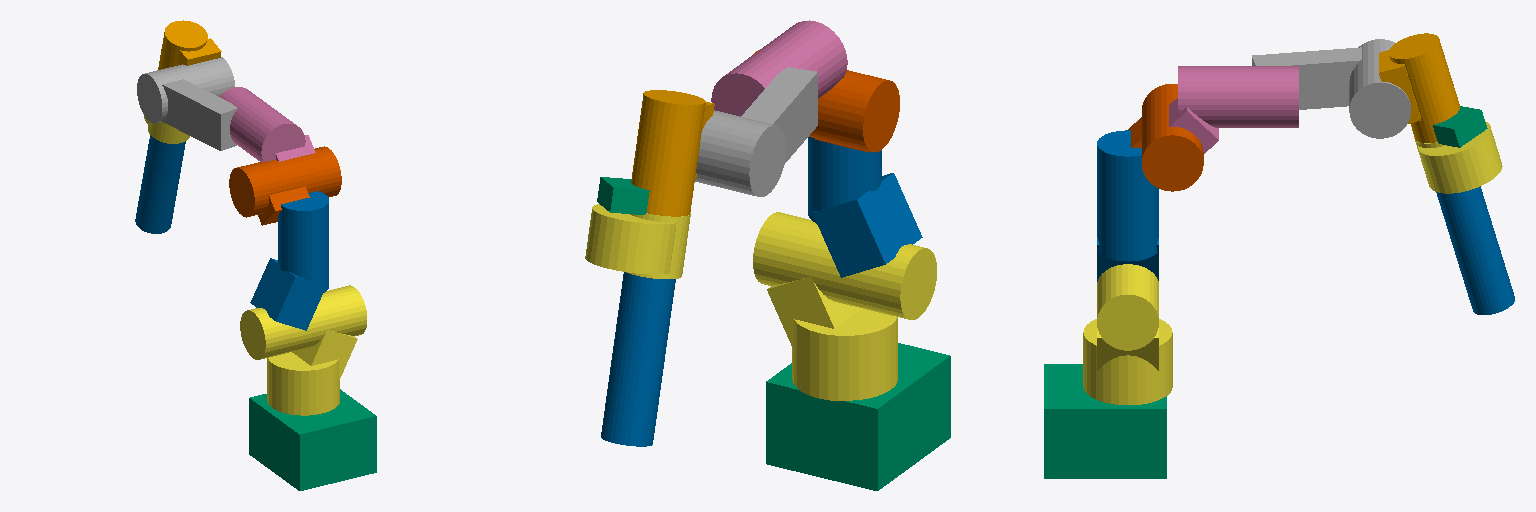
URDF robot description (franka):
<?xml version="1.0" encoding="utf-8"?>
<!-- =================================================================================== -->
<!-- |    This document was autogenerated by xacro from config/franka_only_collision_checking.urdf.xacro | -->
<!-- |    EDITING THIS FILE BY HAND IS NOT RECOMMENDED                                 | -->
<!-- =================================================================================== -->
<robot name="franka">
  <link name="base_link"/>
  <link name="base_aa"/>
  <joint name="base_aa_joint" type="fixed">
    <parent link="base_link"/>
    <child link="base_aa"/>
    <origin rpy="0 0 0" xyz="0.01905 -0.04134 0.0"/>
  </joint>
  <joint name="franka_joint_base_aa" type="fixed">
    <parent link="base_aa"/>
    <child link="franka_link0"/>
    <origin rpy="0 0 1.5708" xyz="0 0 0"/>
  </joint>
  <link name="franka_link0">
    <!-- <visual>
        <geometry>
          <mesh filename="meshes/collision/link0.obj"/>
        </geometry>
      </visual> -->
    <visual>
      <origin rpy="0 0 0" xyz="-0.041 0 0.0705"/>
      <geometry>
        <box size="0.227 0.2 0.141"/>
      </geometry>
    </visual>
  </link>
  <link name="franka_link1">
    <!-- <collision>
        <geometry>
          <mesh filename="meshes/collision/link1.obj"/>
        </geometry>
      </collision> -->
    <!-- <visual>
        <geometry>
          <mesh filename="meshes/collision/link1.obj"/>
        </geometry>
      </visual> -->
    <collision>
      <origin rpy="0 0 0" xyz="0 0 -0.137"/>
      <geometry>
        <!-- <cylinder length="0.112" radius="0.0575" /> -->
        <!-- no clamp on robot -->
        <cylinder length="0.112" radius="0.0825"/>
        <!-- clamp on robot -->
      </geometry>
    </collision>
    <visual>
      <origin rpy="0 0 0" xyz="0 0 -0.137"/>
      <geometry>
        <!-- <cylinder length="0.112" radius="0.0575" /> -->
        <!-- no clamp on robot -->
        <cylinder length="0.112" radius="0.0825"/>
        <!-- clamp on robot -->
      </geometry>
    </visual>
    <collision>
      <origin rpy="0.4799655 0 0" xyz="0 -0.0416 -0.0707"/>
      <geometry>
        <box size="0.115 0.09 0.112"/>
      </geometry>
    </collision>
    <visual>
      <origin rpy="0.4799655 0 0" xyz="0 -0.0416 -0.0707"/>
      <geometry>
        <box size="0.115 0.09 0.112"/>
      </geometry>
    </visual>
    <collision>
      <origin rpy="1.5708 0 0" xyz="0 0 0"/>
      <geometry>
        <cylinder length="0.264" radius="0.0575"/>
      </geometry>
    </collision>
    <visual>
      <origin rpy="1.5708 0 0" xyz="0 0 0"/>
      <geometry>
        <cylinder length="0.264" radius="0.0575"/>
      </geometry>
    </visual>
  </link>
  <joint name="franka_joint1" type="revolute">
    <safety_controller k_position="100.0" k_velocity="40.0" soft_lower_limit="-2.8973" soft_upper_limit="0.6"/>
    <origin rpy="0 0 0" xyz="0 0 0.333"/>
    <parent link="franka_link0"/>
    <child link="franka_link1"/>
    <axis xyz="0 0 1"/>
    <limit effort="87" lower="-2.8773" upper="2.8773" velocity="2.1750"/>
  </joint>
  <link name="franka_link2">
    <!-- <collision>
        <geometry>
          <cylinder radius="0.09" length="0.25"/>
           <mesh filename="meshes/collision/link2.obj"/> 
        </geometry>
      </collision> -->
    <!-- <visual>
        <geometry>
          <cylinder radius="0.09" length="0.25"/>
           <mesh filename="meshes/collision/link2.obj"/> 
        </geometry>
      </visual> -->
    <collision>
      <origin rpy="-1.090831 0 0" xyz="0 -0.0795 0.0401"/>
      <geometry>
        <box size="0.115 0.09 0.112"/>
      </geometry>
    </collision>
    <visual>
      <origin rpy="-1.090831 0 0" xyz="0 -0.0795 0.0401"/>
      <geometry>
        <box size="0.115 0.09 0.112"/>
      </geometry>
    </visual>
    <collision>
      <origin rpy="1.5708 0 0" xyz="0 -0.197 0"/>
      <geometry>
        <cylinder length="0.214" radius="0.0575"/>
      </geometry>
    </collision>
    <visual>
      <origin rpy="1.5708 0 0" xyz="0 -0.197 0"/>
      <geometry>
        <cylinder length="0.214" radius="0.0575"/>
      </geometry>
    </visual>
  </link>
  <joint name="franka_joint2" type="revolute">
    <safety_controller k_position="100.0" k_velocity="40.0" soft_lower_limit="-1.7628" soft_upper_limit="0.6"/>
    <origin rpy="-1.57079632679 0 0" xyz="0 0 0"/>
    <parent link="franka_link1"/>
    <child link="franka_link2"/>
    <axis xyz="0 0 1"/>
    <limit effort="87" lower="-1.7428" upper="1.7428" velocity="2.1750"/>
  </joint>
  <link name="franka_link3">
    <!-- <collision>
        <geometry>
          <mesh filename="meshes/collision/link3.obj"/>
        </geometry>
      </collision> -->
    <!-- <visual>
        <geometry>
          <mesh filename="meshes/collision/link3.obj"/>
        </geometry>
      </visual> -->
    <collision>
      <origin rpy="0 0.785 0" xyz="0.045 0.028 -0.0333"/>
      <geometry>
        <box size="0.085 0.095 0.05"/>
      </geometry>
    </collision>
    <visual>
      <origin rpy="0 0.785 0" xyz="0.045 0.028 -0.0333"/>
      <geometry>
        <box size="0.085 0.095 0.05"/>
      </geometry>
    </visual>
    <collision>
      <origin rpy="1.5708 0 0" xyz="0.0825 0 0"/>
      <geometry>
        <cylinder length="0.226" radius="0.0575"/>
      </geometry>
    </collision>
    <visual>
      <origin rpy="1.5708 0 0" xyz="0.0825 0 0"/>
      <geometry>
        <cylinder length="0.226" radius="0.0575"/>
      </geometry>
    </visual>
  </link>
  <joint name="franka_joint3" type="revolute">
    <safety_controller k_position="100.0" k_velocity="40.0" soft_lower_limit="-2.8973" soft_upper_limit="2.8973"/>
    <origin rpy="1.57079632679 0 0" xyz="0 -0.316 0"/>
    <parent link="franka_link2"/>
    <child link="franka_link3"/>
    <axis xyz="0 0 1"/>
    <limit effort="87" lower="-2.8773" upper="2.8773" velocity="2.1750"/>
  </joint>
  <link name="franka_link4">
    <!-- <collision>
        <geometry>
          <mesh filename="meshes/collision/link4.obj"/>
        </geometry>
      </collision> -->
    <!-- <visual>
        <geometry>
          <mesh filename="meshes/collision/link4.obj"/>
        </geometry>
      </visual> -->
    <collision>
      <origin rpy="0 0 0.785" xyz="-0.0417 0.0388 0.0275"/>
      <geometry>
        <box size="0.085 0.05 0.095"/>
      </geometry>
    </collision>
    <visual>
      <origin rpy="0 0 0.785" xyz="-0.0417 0.0388 0.0275"/>
      <geometry>
        <box size="0.085 0.05 0.095"/>
      </geometry>
    </visual>
    <collision>
      <origin rpy="1.5708 0 0" xyz="-0.0825 0.121 0"/>
      <geometry>
        <cylinder length="0.224" radius="0.0575"/>
      </geometry>
    </collision>
    <visual>
      <origin rpy="1.5708 0 0" xyz="-0.0825 0.121 0"/>
      <geometry>
        <cylinder length="0.224" radius="0.0575"/>
      </geometry>
    </visual>
  </link>
  <joint name="franka_joint4" type="revolute">
    <safety_controller k_position="100.0" k_velocity="40.0" soft_lower_limit="-3.0718" soft_upper_limit="-0.0698"/>
    <origin rpy="1.57079632679 0 0" xyz="0.0825 0 0"/>
    <parent link="franka_link3"/>
    <child link="franka_link4"/>
    <axis xyz="0 0 1"/>
    <limit effort="87" lower="-3.0518" upper="-0.0898" velocity="2.1750"/>
  </joint>
  <link name="franka_link5">
    <!-- <collision>
        <geometry>
          <mesh filename="meshes/collision/link5.obj"/>
        </geometry>
      </collision> -->
    <!-- <visual>
        <geometry>
          <mesh filename="meshes/collision/link5.obj"/>
        </geometry>
      </visual> -->
    <collision>
      <origin rpy="-0.174533 0 0" xyz="0 0.075 -0.125"/>
      <geometry>
        <box size="0.092 0.056 0.22"/>
      </geometry>
    </collision>
    <visual>
      <origin rpy="-0.174533 0 0" xyz="0 0.075 -0.125"/>
      <geometry>
        <box size="0.092 0.056 0.22"/>
      </geometry>
    </visual>
    <collision>
      <origin rpy="1.5708 0 0" xyz="0 0.036 0"/>
      <geometry>
        <cylinder length="0.19" radius="0.0575"/>
      </geometry>
    </collision>
    <visual>
      <origin rpy="1.5708 0 0" xyz="0 0.036 0"/>
      <geometry>
        <cylinder length="0.19" radius="0.0575"/>
      </geometry>
    </visual>
  </link>
  <joint name="franka_joint5" type="revolute">
    <safety_controller k_position="100.0" k_velocity="40.0" soft_lower_limit="-2.8973" soft_upper_limit="2.8973"/>
    <origin rpy="-1.57079632679 0 0" xyz="-0.0825 0.384 0"/>
    <parent link="franka_link4"/>
    <child link="franka_link5"/>
    <axis xyz="0 0 1"/>
    <limit effort="12" lower="-2.8773" upper="2.8773" velocity="2.6100"/>
  </joint>
  <link name="franka_link6">
    <!-- <collision>
        <geometry>
          <mesh filename="meshes/collision/link6.obj"/>
        </geometry>
      </collision> -->
    <!-- <visual>
        <geometry>
          <mesh filename="meshes/collision/link6.obj"/>
        </geometry>
      </visual> -->
    <collision>
      <origin rpy="1.5708 0 0" xyz="0.088 -0.012 0"/>
      <geometry>
        <cylinder length="0.19" radius="0.049"/>
      </geometry>
    </collision>
    <visual>
      <origin rpy="1.5708 0 0" xyz="0.088 -0.012 0"/>
      <geometry>
        <cylinder length="0.19" radius="0.049"/>
      </geometry>
    </visual>
    <collision>
      <origin rpy="0 0 0" xyz="0.042 0.0154 0.01"/>
      <geometry>
        <box size="0.05 0.115 0.088"/>
      </geometry>
    </collision>
    <visual>
      <origin rpy="0 0 0" xyz="0.042 0.0154 0.01"/>
      <geometry>
        <box size="0.05 0.115 0.088"/>
      </geometry>
    </visual>
  </link>
  <joint name="franka_joint6" type="revolute">
    <safety_controller k_position="100.0" k_velocity="40.0" soft_lower_limit="-0.0175" soft_upper_limit="3.7525"/>
    <origin rpy="1.57079632679 0 0" xyz="0 0 0"/>
    <parent link="franka_link5"/>
    <child link="franka_link6"/>
    <axis xyz="0 0 1"/>
    <limit effort="12" lower="0.0075" upper="3.6825" velocity="2.6100"/>
  </joint>
  <link name="franka_link7">
    <!-- <collision>
        <geometry>
          <mesh filename="meshes/collision/link7.obj"/>
        </geometry>
      </collision> -->
    <!-- <visual>
        <geometry>
          <mesh filename="meshes/collision/link7.obj"/>
        </geometry>
      </visual> -->
  </link>
  <joint name="franka_joint7" type="revolute">
    <safety_controller k_position="100.0" k_velocity="40.0" soft_lower_limit="-2.8973" soft_upper_limit="2.8973"/>
    <origin rpy="1.57079632679 0 0" xyz="0.088 0 0"/>
    <parent link="franka_link6"/>
    <child link="franka_link7"/>
    <axis xyz="0 0 1"/>
    <limit effort="12" lower="-2.8773" upper="2.8773" velocity="2.6100"/>
  </joint>
  <link name="franka_link8">
    <collision>
      <origin rpy="0 0 0.785398" xyz="0.0424 0.0424 -0.028"/>
      <geometry>
        <box size="0.06 0.075 0.04"/>
      </geometry>
    </collision>
    <visual>
      <origin rpy="0 0 0.785398" xyz="0.0424 0.0424 -0.028"/>
      <geometry>
        <box size="0.06 0.075 0.04"/>
      </geometry>
    </visual>
  </link>
  <joint name="franka_joint8" type="fixed">
    <origin rpy="0 0 0" xyz="0 0 0.107"/>
    <parent link="franka_link7"/>
    <child link="franka_link8"/>
    <axis xyz="0 0 0"/>
  </joint>
  <joint name="franka_head_to_tool_joint" type="fixed">
    <parent link="franka_head_js"/>
    <child link="tool"/>
    <origin rpy="0 0 0" xyz="0.0 0 0.075"/>
  </joint>
  <link name="franka_head_js">
    <!-- concentric cyl -->
    <collision>
      <origin rpy="0 0 0" xyz="0 0 0.0308"/>
      <geometry>
        <cylinder length="0.1" radius="0.05"/>
      </geometry>
    </collision>
    <visual>
      <origin rpy="0 0 0" xyz="0 0 0.0308"/>
      <geometry>
        <cylinder length="0.1" radius="0.05"/>
      </geometry>
    </visual>
    <!-- offaxis cyl -->
    <collision>
      <origin rpy="0 0 0" xyz="0.035 0 0.0308"/>
      <geometry>
        <cylinder length="0.08" radius="0.07"/>
      </geometry>
    </collision>
    <visual>
      <origin rpy="0 0 0" xyz="0.035 0 0.0308"/>
      <geometry>
        <cylinder length="0.08" radius="0.07"/>
      </geometry>
    </visual>
  </link>
  <joint name="franka_link8_to_franka_head_js" type="fixed">
    <parent link="franka_link8"/>
    <child link="franka_head_js"/>
    <origin rpy="0 0 0.785398" xyz="0.0 0.000 0.0075"/>
  </joint>
  <link name="tool">
    <collision>
      <origin rpy="0 0 0" xyz="0.0 0.0 0.1375"/>
      <geometry>
        <cylinder length="0.275" radius="0.041"/>
      </geometry>
    </collision>
    <visual>
      <origin rpy="0 0 0" xyz="0.0 0.0 0.1375"/>
      <geometry>
        <cylinder length="0.275" radius="0.041"/>
      </geometry>
    </visual>
  </link>
  <link name="tool_tip"/>
  <joint name="tool_joint_to_tool_tip" type="fixed">
    <parent link="tool"/>
    <child link="tool_tip"/>
    <origin rpy="0 0 0" xyz="0.0 0 0.275"/>
  </joint>
  <collision_filter_group name="base">
    <member link="franka_link0"/>
    <member link="franka_link1"/>
    <member link="franka_link2"/>
    <member link="franka_link3"/>
    <member link="franka_link4"/>
    <ignored_collision_filter_group collision_filter_group="base"/>
  </collision_filter_group>
  <collision_filter_group name="franka">
    <member link="franka_link3"/>
    <member link="franka_link4"/>
    <member link="franka_link5"/>
    <ignored_collision_filter_group collision_filter_group="franka"/>
  </collision_filter_group>
  <collision_filter_group name="end_effectors">
    <member link="franka_link5"/>
    <member link="franka_link6"/>
    <member link="franka_link7"/>
    <member link="franka_link8"/>
    <member link="franka_head_js"/>
    <member link="tool"/>
    <ignored_collision_filter_group collision_filter_group="end_effectors"/>
  </collision_filter_group>
</robot>

<!-- The collision for links ['franka_link0'] are removed in this URDF    -->

--- What the picture shows (computed from the rendered views, not written in the file) ---
3 views of the same robot in one strip: view 1: azimuth 30°, elevation 25°; view 2: azimuth 150°, elevation 25°; view 3: azimuth 270°, elevation 25° (orthographic).
Robot: franka — 14 links, 13 joints (7 revolute, 6 fixed); root link base_link; default pose: all joints at 0 but 2 set to mid-range because 0 is outside their limits (franka_joint4 = -1.57, franka_joint6 = 1.84).
Visible links, largest first — view 1: franka_link1, franka_link0, franka_link2, franka_link5, franka_link3, franka_link4, tool, franka_link6, franka_head_js; view 2: franka_link1, franka_link0, franka_link2, franka_link5, tool, franka_link6, franka_link4, franka_head_js, franka_link3, franka_link8; view 3: franka_link0, franka_link1, franka_link4, franka_link5, franka_link2, tool, franka_link6, franka_link3, franka_head_js, franka_link8.
Link boxes in pixels (left/top/right/bottom): franka_link1: left=240, top=285, right=366, bottom=415; franka_link0: left=249, top=389, right=376, bottom=490; franka_link2: left=250, top=191, right=328, bottom=330; franka_link5: left=137, top=57, right=237, bottom=150; franka_link3: left=229, top=146, right=341, bottom=225; franka_link4: left=220, top=87, right=315, bottom=161; tool: left=135, top=135, right=185, bottom=233; franka_link6: left=158, top=20, right=221, bottom=69; franka_head_js: left=144, top=116, right=189, bottom=143; franka_link1: left=753, top=212, right=936, bottom=400; franka_link0: left=766, top=343, right=950, bottom=490; franka_link2: left=808, top=137, right=922, bottom=277; franka_link5: left=695, top=67, right=817, bottom=196; tool: left=601, top=272, right=675, bottom=446; franka_link6: left=631, top=90, right=714, bottom=216; franka_link4: left=711, top=20, right=847, bottom=116; franka_head_js: left=585, top=204, right=690, bottom=278; franka_link3: left=753, top=50, right=899, bottom=152; franka_link8: left=597, top=177, right=649, bottom=214; franka_link0: left=1044, top=364, right=1166, bottom=478; franka_link1: left=1083, top=264, right=1172, bottom=404; franka_link4: left=1169, top=66, right=1298, bottom=153; franka_link5: left=1252, top=39, right=1410, bottom=138; franka_link2: left=1097, top=130, right=1158, bottom=281; tool: left=1436, top=186, right=1514, bottom=314; franka_link6: left=1379, top=33, right=1459, bottom=142; franka_link3: left=1128, top=84, right=1203, bottom=191; franka_head_js: left=1414, top=121, right=1502, bottom=193; franka_link8: left=1433, top=106, right=1487, bottom=147.
Bounding box of the posed robot: 0.264 × 0.871 × 0.8485 m (x, y, z).
Geometry: primitives only (box / cylinder / sphere), no mesh files.
